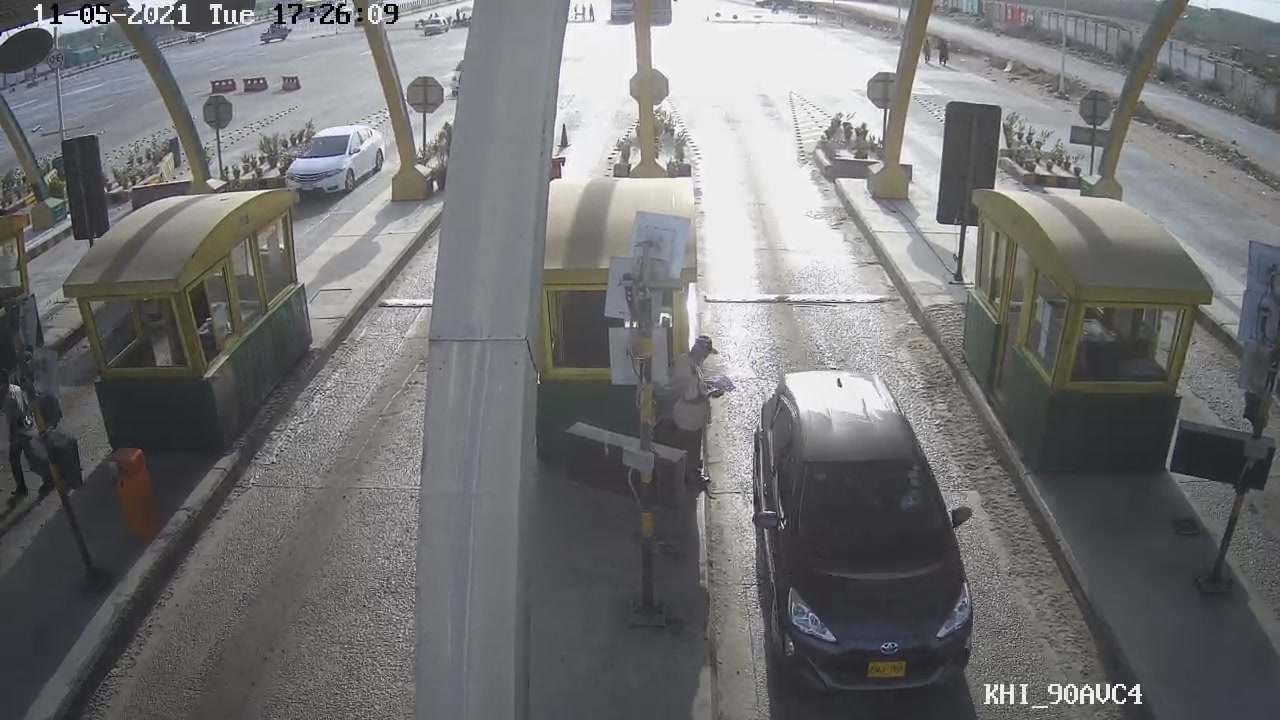F1: (747, 367, 984, 707)
